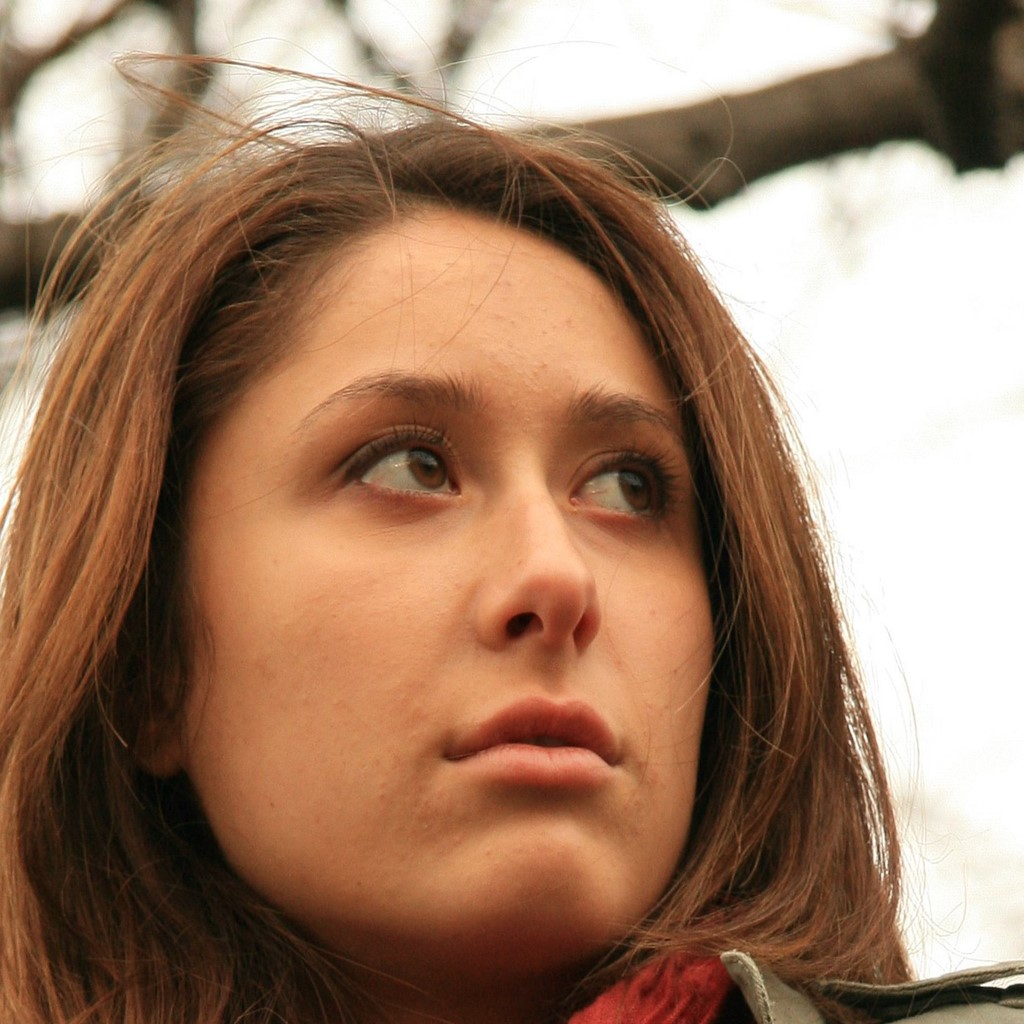sin_mascara: (171, 175, 724, 964)
